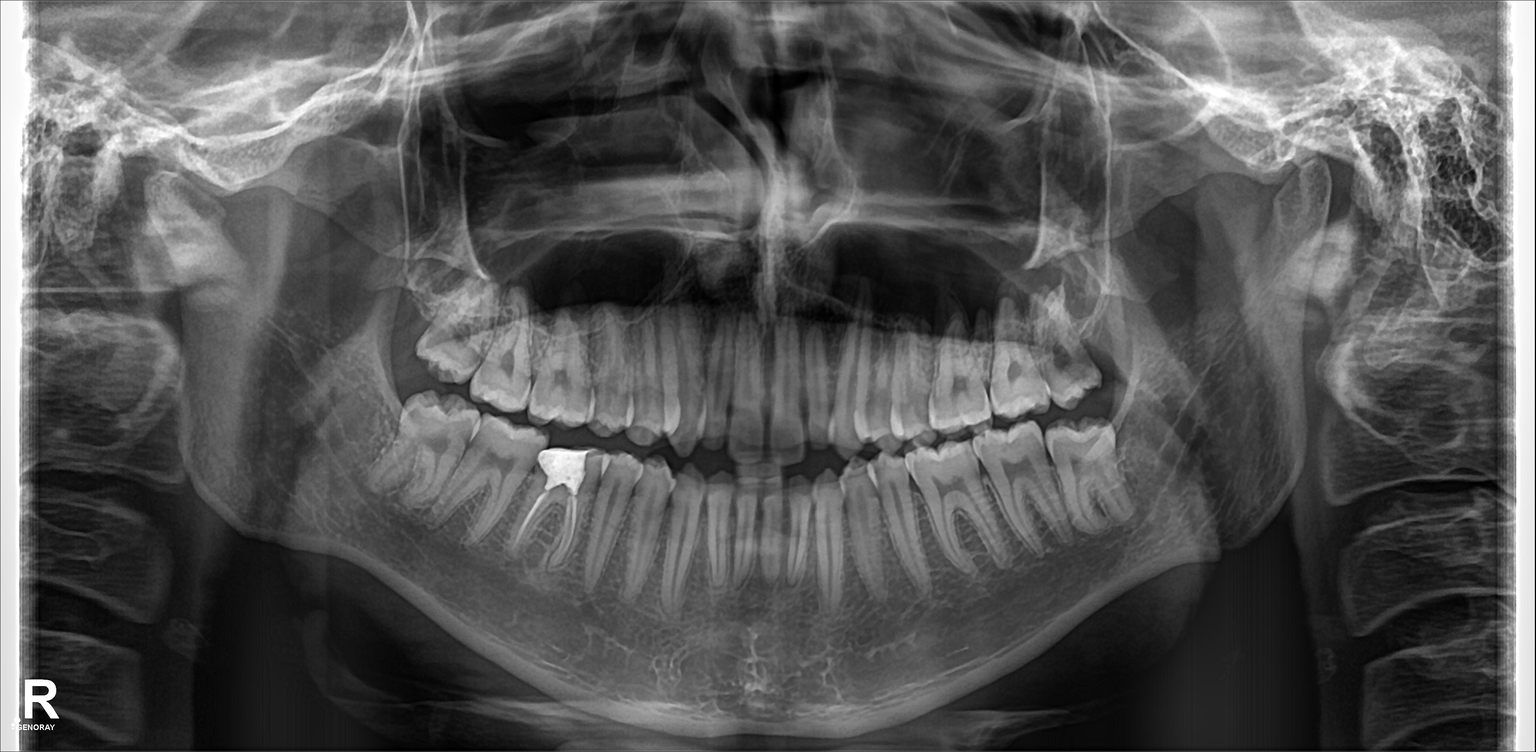Endodontically Treated Tooth: (538, 452, 584, 563)
Missing Tooth: (395, 281, 434, 369)
